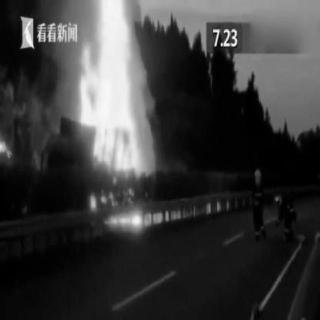Fire: (69, 3, 160, 184), (104, 201, 146, 230), (1, 131, 13, 154)
other: (150, 208, 220, 224)
